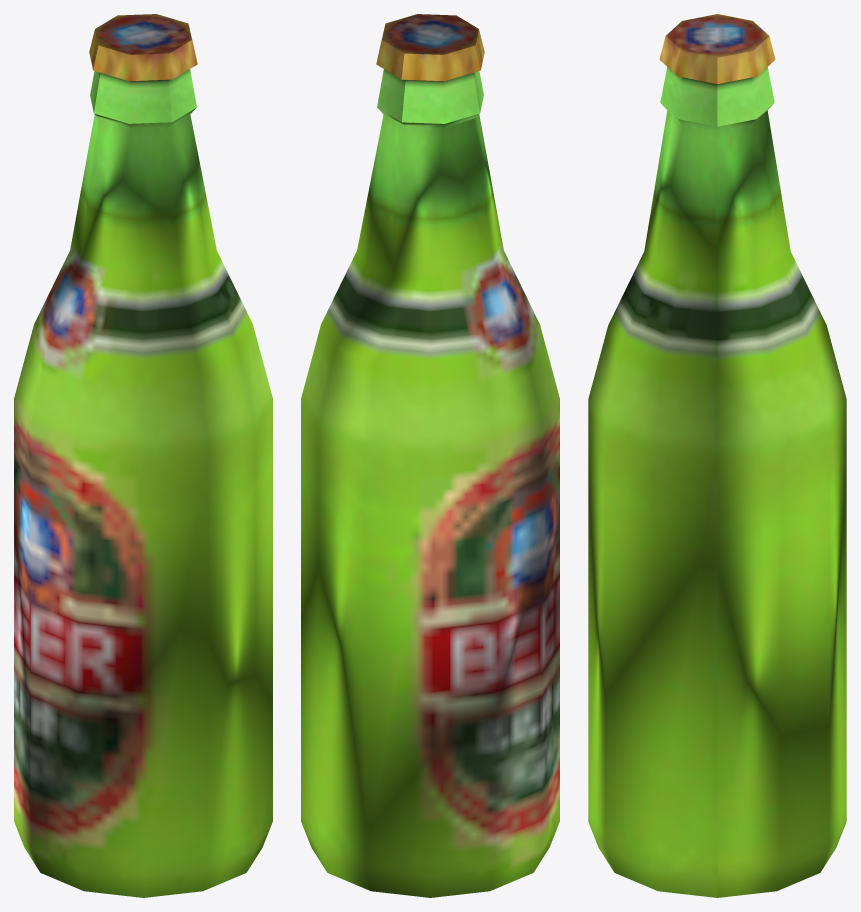
File: characters-f02d4dac.glb
The picture shows the model from 3 angles, left to right: view 1: azimuth 30°, elevation 25°; view 2: azimuth 150°, elevation 25°; view 3: azimuth 270°, elevation 25°; orthographic projection.
Visible parts, largest first — view 1: BEERBOTTLE001_A; view 2: BEERBOTTLE001_A; view 3: BEERBOTTLE001_A.
Boxes of the visible parts, x1=… form: BEERBOTTLE001_A: x1=14, y1=14, x2=272, y2=897; BEERBOTTLE001_A: x1=301, y1=14, x2=559, y2=897; BEERBOTTLE001_A: x1=588, y1=14, x2=846, y2=897.
Size of the model in its own units: 0.0634 by 0.2197 by 0.0634.
1 material, 1 textured.
